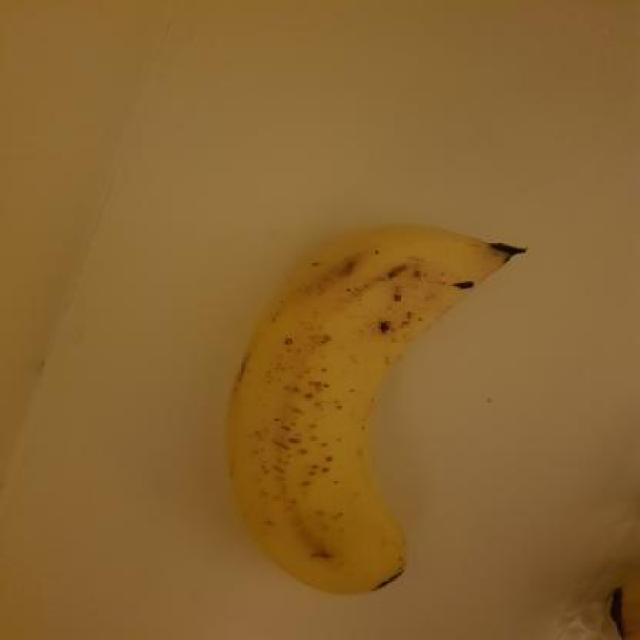Banana: (214, 215, 532, 600)
